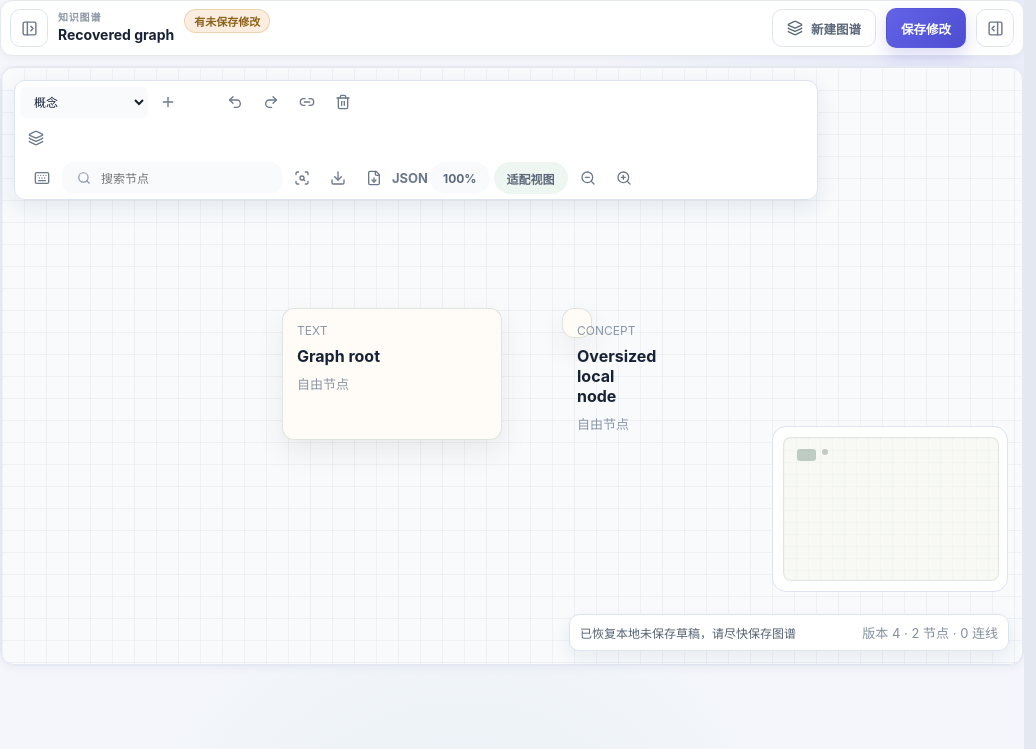
Scenario: GraphWorkspacePage conflict dependency guard › surfaces linked keep-latest guidance for invalid local node sizes
The width and height of the screenshot is (1036, 749).
Click the button "保存修改" at (926, 28), box top-left (886, 8), bottom-right (966, 48)
(page scrolled)
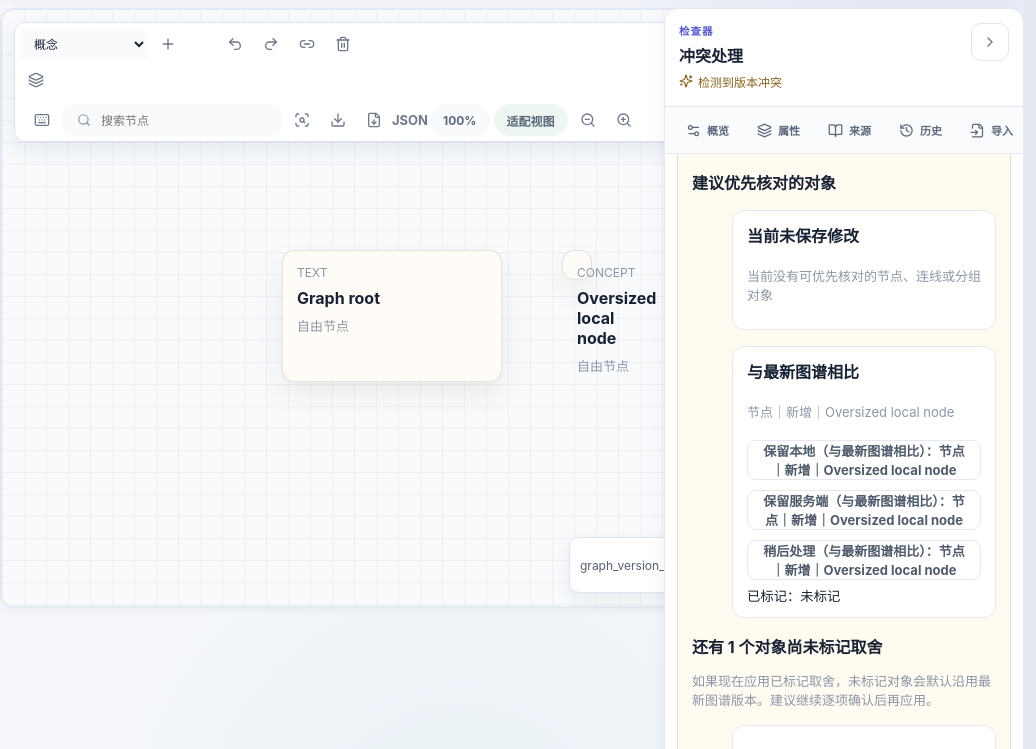
Click the button "保留本地（与最新图谱相比）：节点｜新增｜Oversized local node" at (864, 460), box top-left (747, 440), bottom-right (981, 480)
(page scrolled)
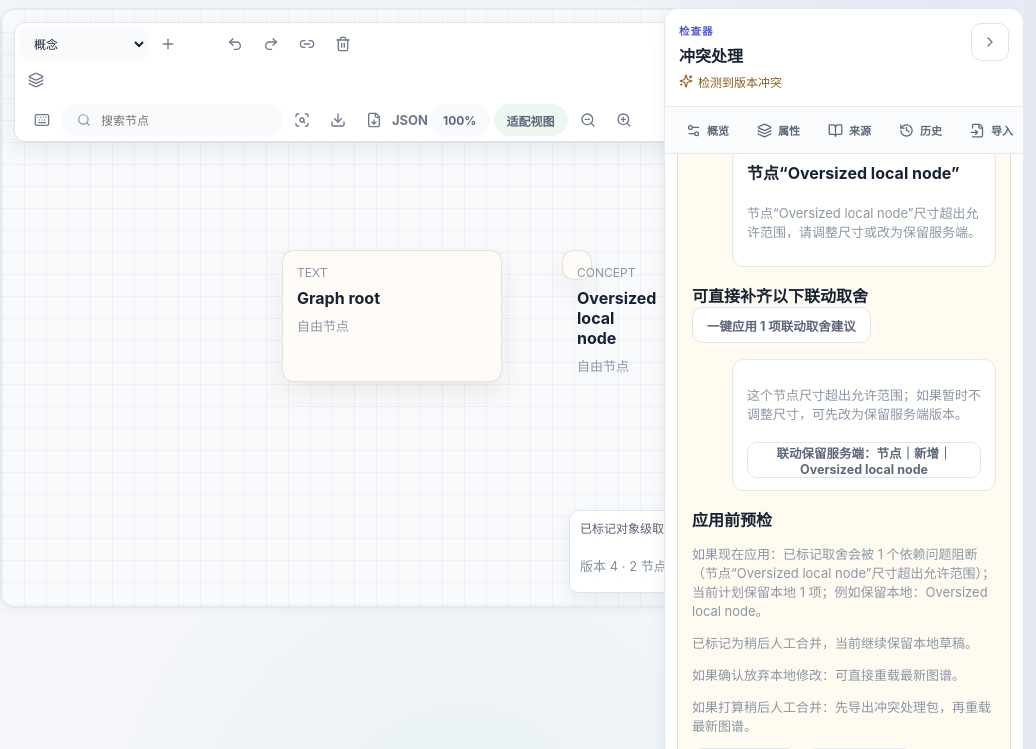
Click the button "联动保留服务端：节点｜新增｜Oversized local node" at (864, 460), box top-left (747, 442), bottom-right (981, 478)
(page scrolled)
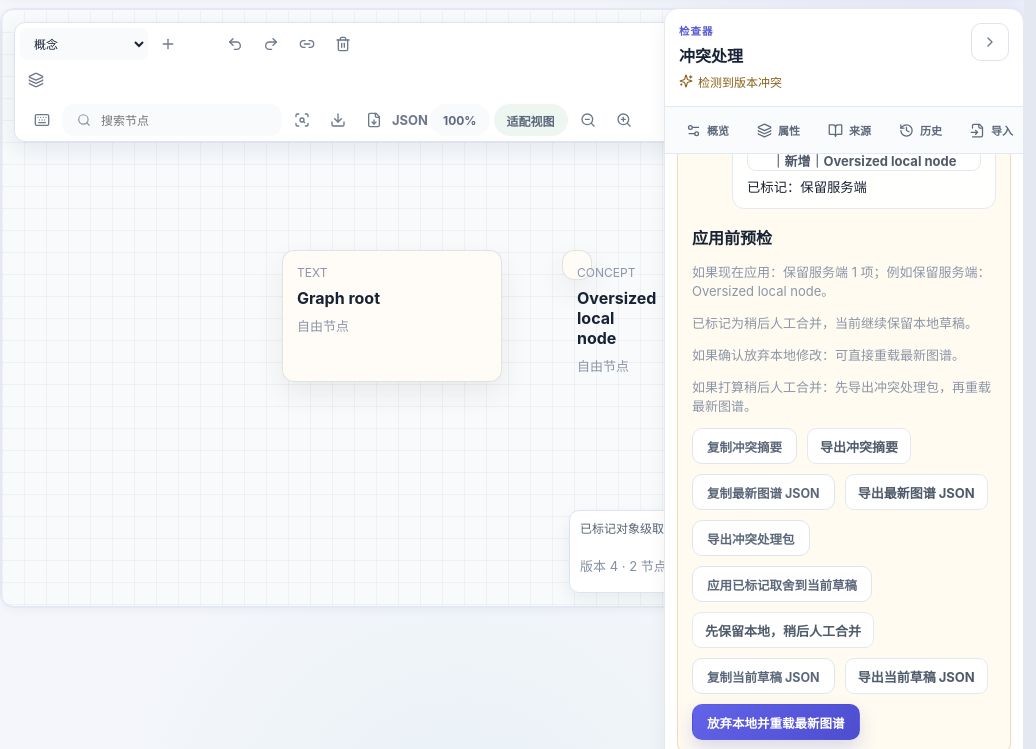
Check: the field labelled "取舍依赖校验问题" is gone
Check: the button labelled "联动取舍建议" is gone
Check: the button "应用已标记取舍到当前草稿" is enabled, box top-left (692, 566), bottom-right (872, 602)
